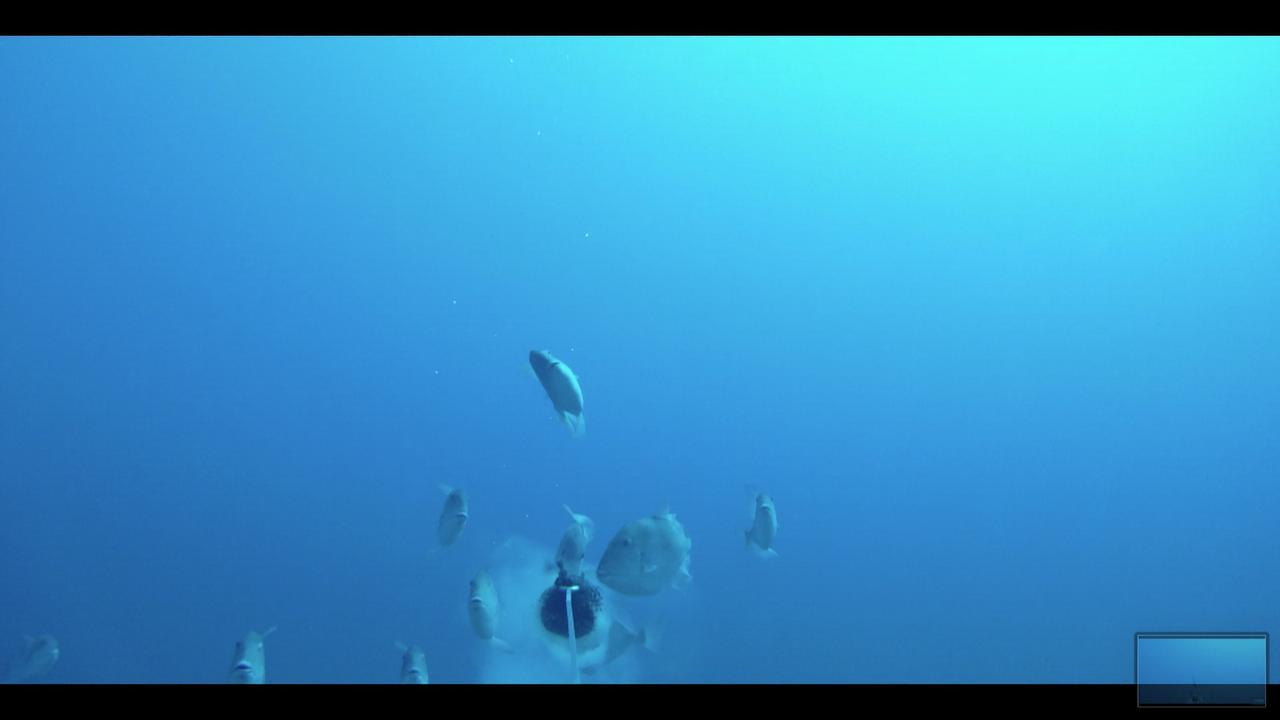balistes: (597, 503, 703, 599), (514, 340, 594, 439), (453, 566, 521, 657), (731, 477, 791, 562), (221, 620, 291, 680), (413, 476, 472, 547), (379, 631, 435, 687)
